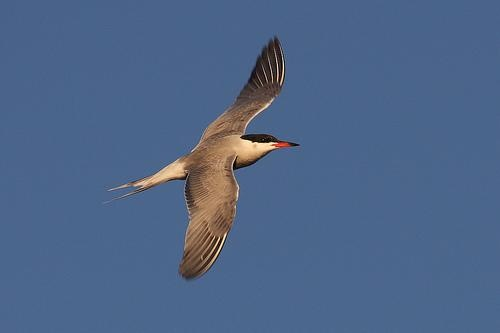bird: (93, 35, 305, 283)
